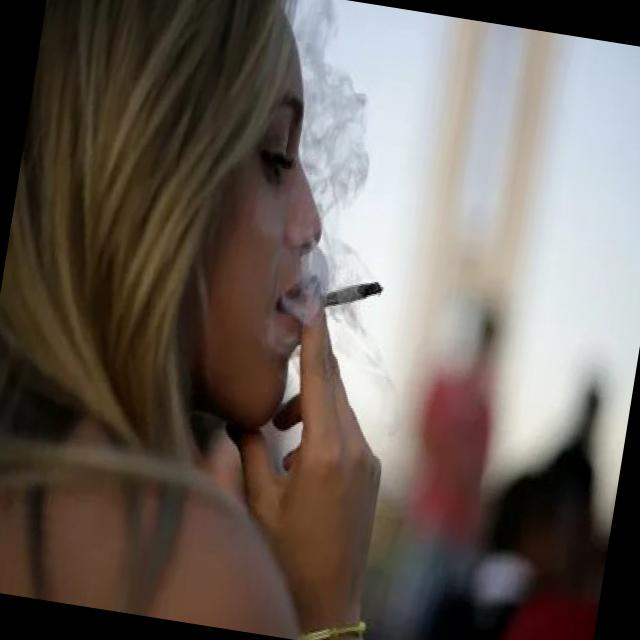cigarette: (314, 270, 391, 318)
